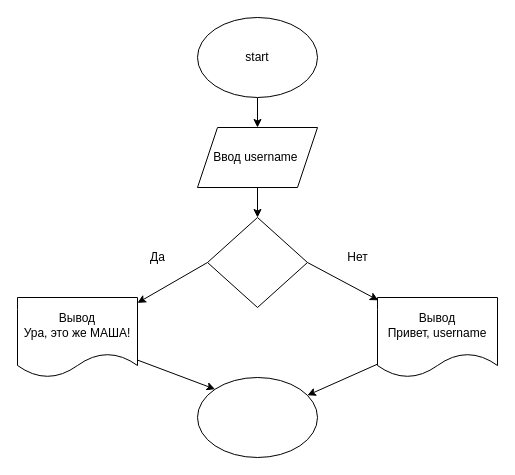
This 515x475 diagram has some shape labels left out. Here are the shapes that lost their labels. From the top down, the centre of each, then its label:
At point (257, 262): "sername == Маша".
At point (257, 417): "end".
